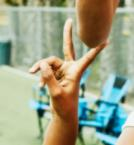front: (26, 16, 109, 121)
